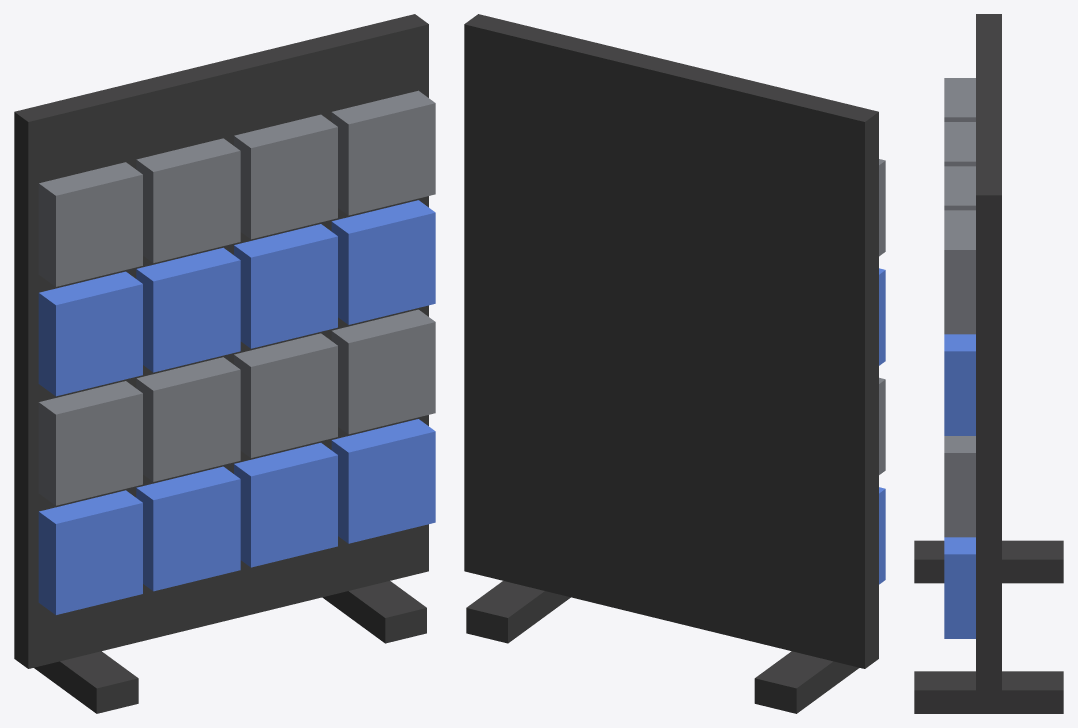
3 renders of one model, left to right at view 1: azimuth 30°, elevation 25°; view 2: azimuth 150°, elevation 25°; view 3: azimuth 270°, elevation 25°, orthographic. The views are drawn at different scales.
Visible parts, largest first — view 1: Panel, Absorber block.001, Absorber block.002, Absorber block, Absorber block.003, Absorber block.006, Absorber block.004, Absorber block.014, Absorber block.007, Absorber block.013, Absorber block.005, Absorber block.012 (+7 smaller); view 2: Panel, Panel foot, Panel foot.001, Absorber block, Absorber block.001, Absorber block.002, Absorber block.003; view 3: Panel, Panel foot.001, Panel foot, Absorber block.015, Absorber block.012, Absorber block.013, Absorber block.014, Absorber block.007, Absorber block.011, Absorber block.003.
Part boxes in pixels (x1,y1,x2,y2): Panel: [14, 14, 428, 668]; Absorber block.001: [38, 381, 142, 505]; Absorber block.002: [38, 271, 142, 396]; Absorber block: [38, 490, 142, 614]; Absorber block.003: [38, 162, 142, 286]; Absorber block.006: [136, 247, 240, 372]; Absorber block.004: [136, 466, 240, 591]; Absorber block.014: [331, 200, 435, 324]; Absorber block.007: [136, 138, 240, 262]; Absorber block.013: [331, 309, 435, 434]; Absorber block.005: [136, 357, 240, 481]; Absorber block.012: [331, 419, 435, 543]; Panel: [464, 14, 878, 668]; Panel foot: [754, 651, 859, 713]; Panel foot.001: [466, 581, 570, 643]; Absorber block: [879, 487, 885, 584]; Absorber block.001: [879, 377, 885, 474]; Absorber block.002: [879, 268, 885, 365]; Absorber block.003: [879, 159, 885, 256]; Panel: [976, 14, 1001, 702]; Panel foot.001: [914, 671, 1063, 713]; Panel foot: [914, 540, 1063, 583]; Absorber block.015: [944, 210, 975, 334]; Absorber block.012: [944, 537, 975, 638]; Absorber block.013: [944, 436, 975, 537]; Absorber block.014: [944, 334, 975, 435]; Absorber block.007: [944, 122, 975, 166]; Absorber block.011: [944, 166, 975, 210]; Absorber block.003: [944, 78, 975, 121].
Bounding box in the file's own units: 115 × 158 × 40.
